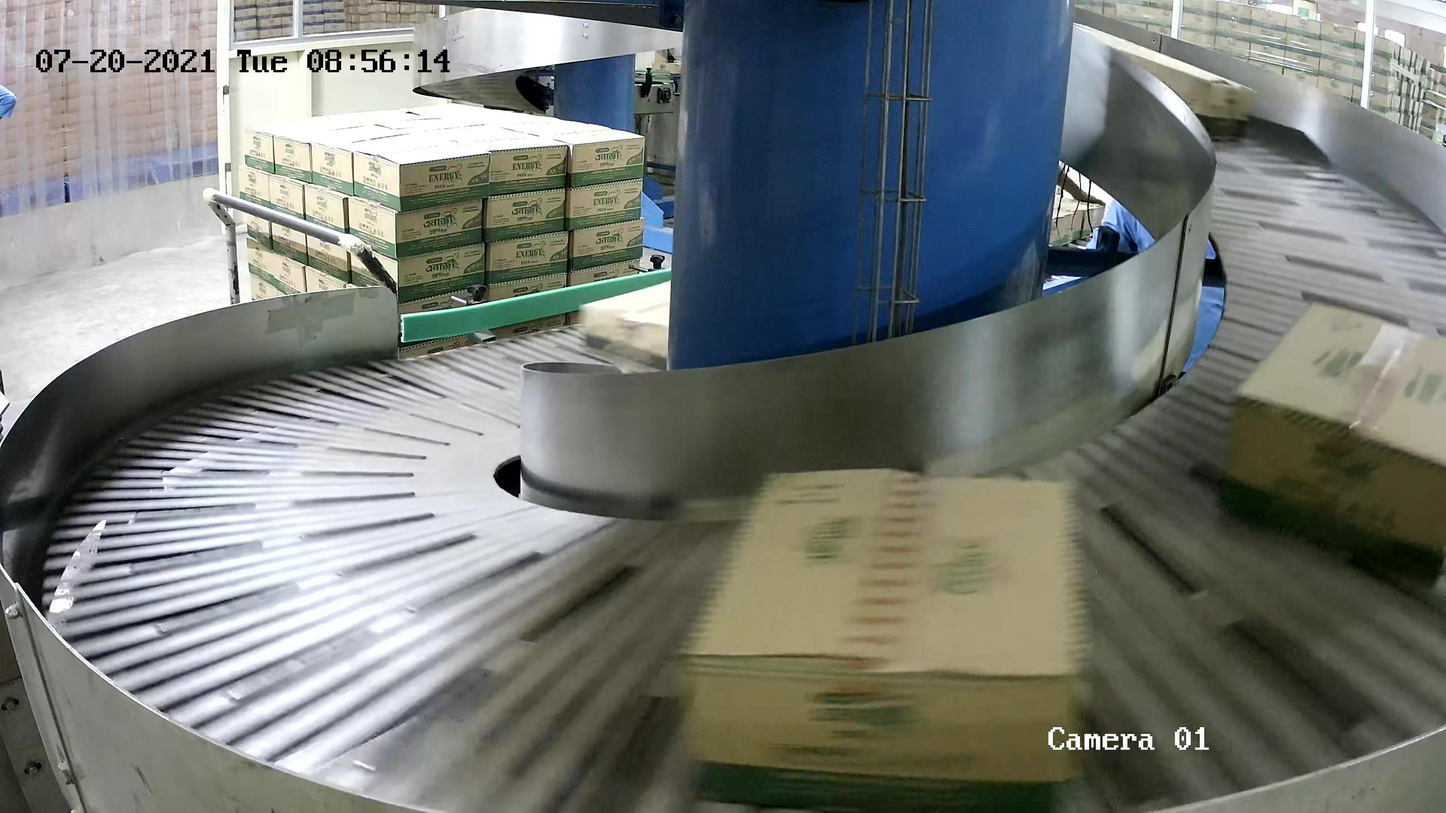Box: (682, 466, 1097, 813), (1215, 300, 1446, 585), (1046, 21, 1256, 144), (581, 260, 764, 380)
